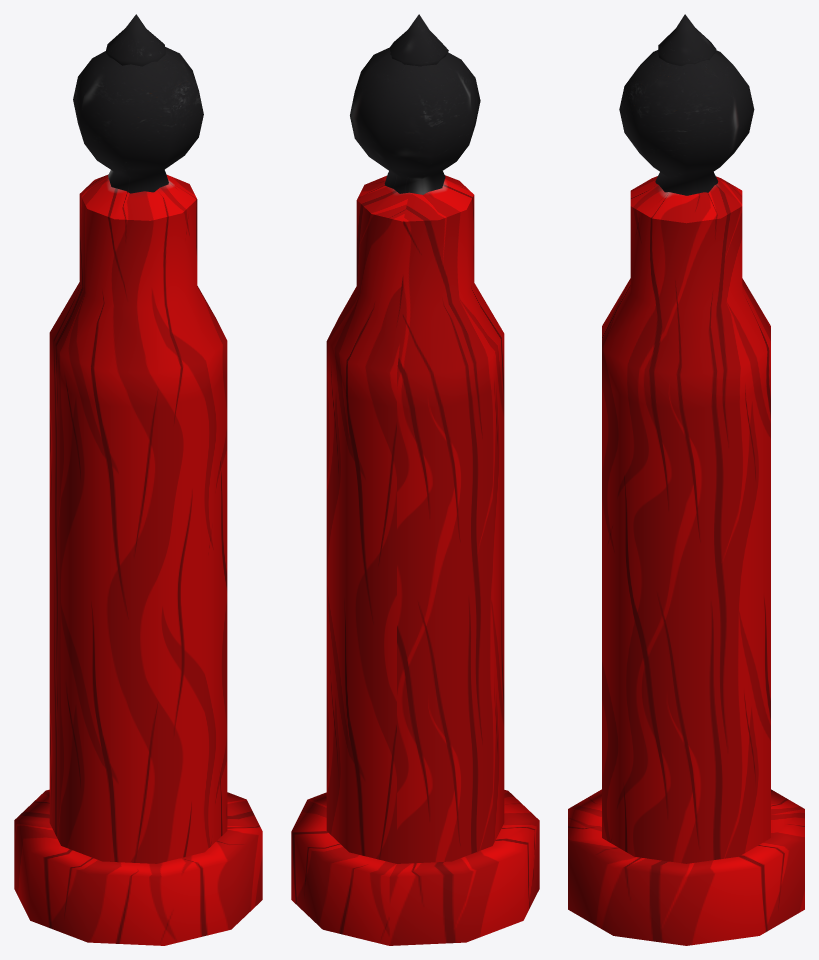
Rendered from Fence_pivot.fbx.
3 renders of one model, left to right at view 1: azimuth 30°, elevation 25°; view 2: azimuth 150°, elevation 25°; view 3: azimuth 270°, elevation 25°, orthographic.
Visible parts, largest first — view 1: Fence_Pivot; view 2: Fence_Pivot; view 3: Fence_Pivot.
Boxes of the visible parts, x1,y1,x2,y2 form: Fence_Pivot: (14, 14, 262, 945); Fence_Pivot: (291, 14, 539, 945); Fence_Pivot: (568, 14, 804, 945).
Bounding box in the file's own units: 0.5865 × 2.28 × 0.5578.
1 material, 1 textured.
